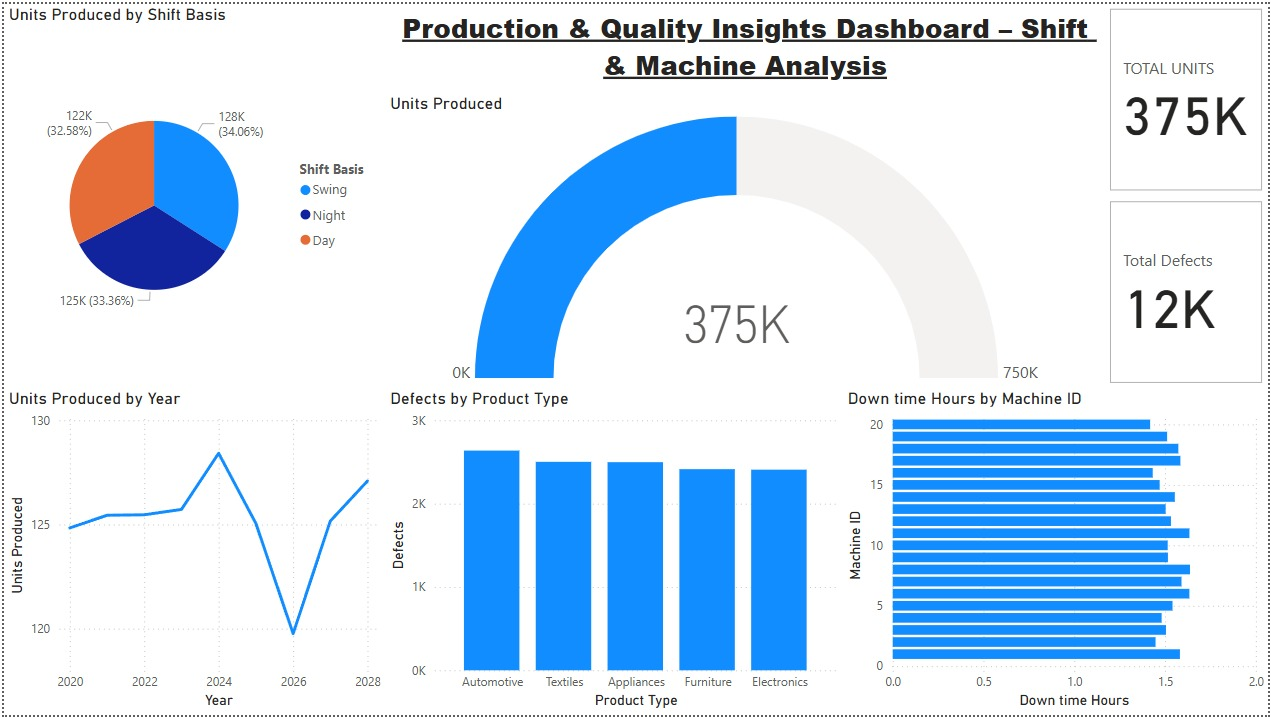

The page's visual inventory and layout, read from the dashboard file:
{"tool":"powerbi","page":{"name":"Page 1","canvas":[1280,720],"ordinal":0},"visuals":[{"type":"cardVisual","fields":{"Data":["Manufacturing Dataset.Total Units"]},"box":[1115.1,0,164.4,194.5],"z":0},{"type":"lineChart","fields":{"Category":["Manufacturing Dataset.Date.Variation.Date Hierarchy.Year"],"Y":["Avg(Manufacturing Dataset.Units Produced)"]},"box":[0,389,386.3,330.1],"z":1000},{"type":"barChart","fields":{"Y":["Avg(Manufacturing Dataset.Down time Hours)"],"Category":["Manufacturing Dataset.Machine ID"]},"box":[849.3,389,431.5,330.1],"z":2000},{"type":"clusteredColumnChart","fields":{"Category":["Manufacturing Dataset.Product Type"],"Y":["Sum(Manufacturing Dataset.Defects)"]},"box":[386.3,389,463,330.1],"z":3000},{"type":"pieChart","fields":{"Category":["Manufacturing Dataset.Shift"],"Y":["Sum(Manufacturing Dataset.Units Produced)"]},"box":[0,0,386.3,389],"z":3001},{"type":"cardVisual","fields":{"Data":["Manufacturing Dataset.Total Defects"]},"box":[1115.1,194.5,164.4,194.5],"z":3002},{"type":"textbox","box":[386.3,0,728.8,90.4],"z":3003},{"type":"gauge","fields":{"Y":["Sum(Manufacturing Dataset.Units Produced)"]},"box":[386,90,729,299],"z":3004}]}

Visuals, with their boxes in screenshot pixels (x1, y1, x2, y2), scaled from the page's 1280x720 canvas onto the 1271x717 screenshot:
cardVisual - Manufacturing Dataset.Total Units: 1107/0/1270/194
lineChart - Manufacturing Dataset.Date.Variation.Date Hierarchy.Year x Avg(Manufacturing Dataset.Units Produced): 0/387/384/716
barChart - Avg(Manufacturing Dataset.Down time Hours) x Manufacturing Dataset.Machine ID: 843/387/1270/716
clusteredColumnChart - Manufacturing Dataset.Product Type x Sum(Manufacturing Dataset.Defects): 384/387/843/716
pieChart - Manufacturing Dataset.Shift x Sum(Manufacturing Dataset.Units Produced): 0/0/384/387
cardVisual - Manufacturing Dataset.Total Defects: 1107/194/1270/387
textbox: 384/0/1107/90
gauge - Sum(Manufacturing Dataset.Units Produced): 383/90/1107/387
